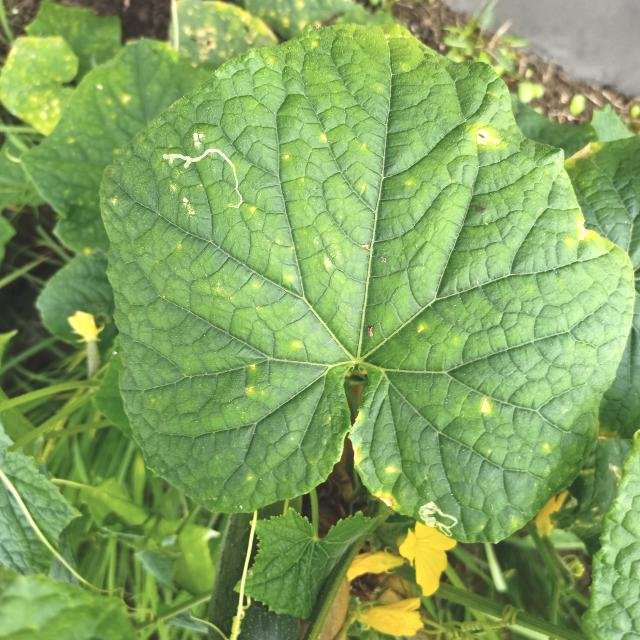disease_cucumber: (374, 462, 404, 508), (473, 122, 504, 150), (568, 219, 599, 247), (244, 357, 265, 396), (477, 397, 494, 414)
